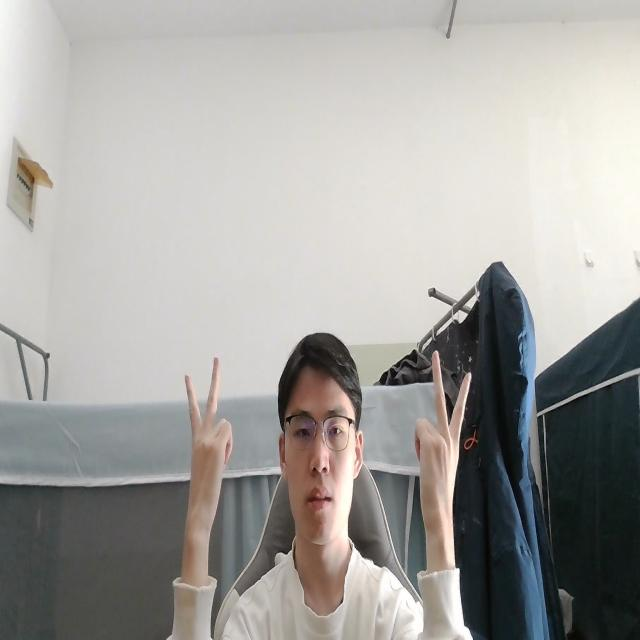yes: (413, 345, 474, 550), (178, 348, 237, 549)
